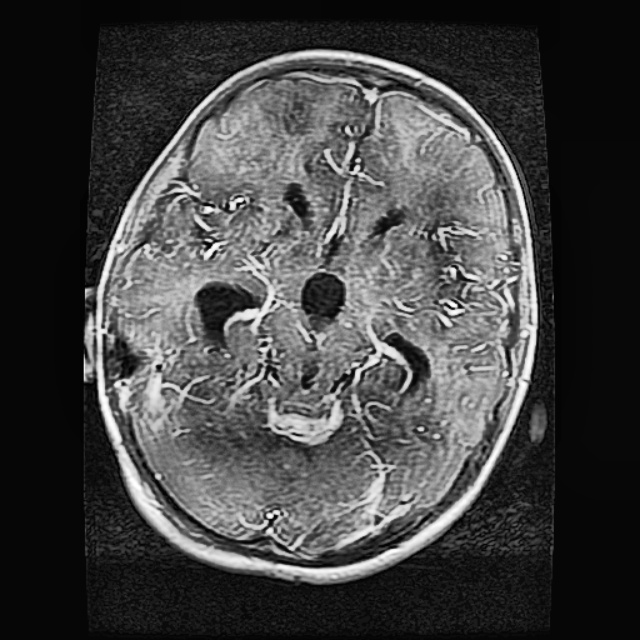Glioma: (190, 279, 259, 350)
